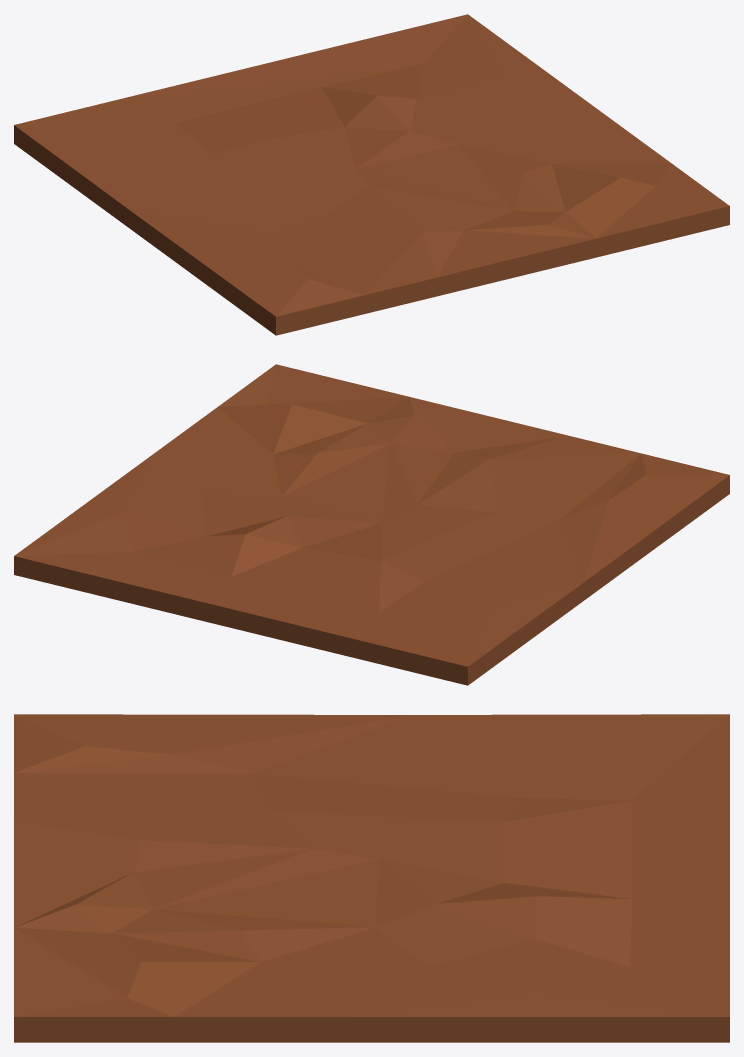
File: Dirt.fbx
The picture shows the model from 3 angles, top to bottom: view 1: azimuth 30°, elevation 25°; view 2: azimuth 150°, elevation 25°; view 3: azimuth 270°, elevation 25°; orthographic projection. The views are drawn at different scales.
Parts seen in each view (by area): view 1: Dirt; view 2: Dirt; view 3: Dirt.
Part boxes in pixels (x1=…): Dirt: x1=14, y1=14, x2=729, y2=335; Dirt: x1=14, y1=364, x2=729, y2=685; Dirt: x1=14, y1=714, x2=729, y2=1042.
Bounding box in the file's own units: 500 × 29.96 × 500.
